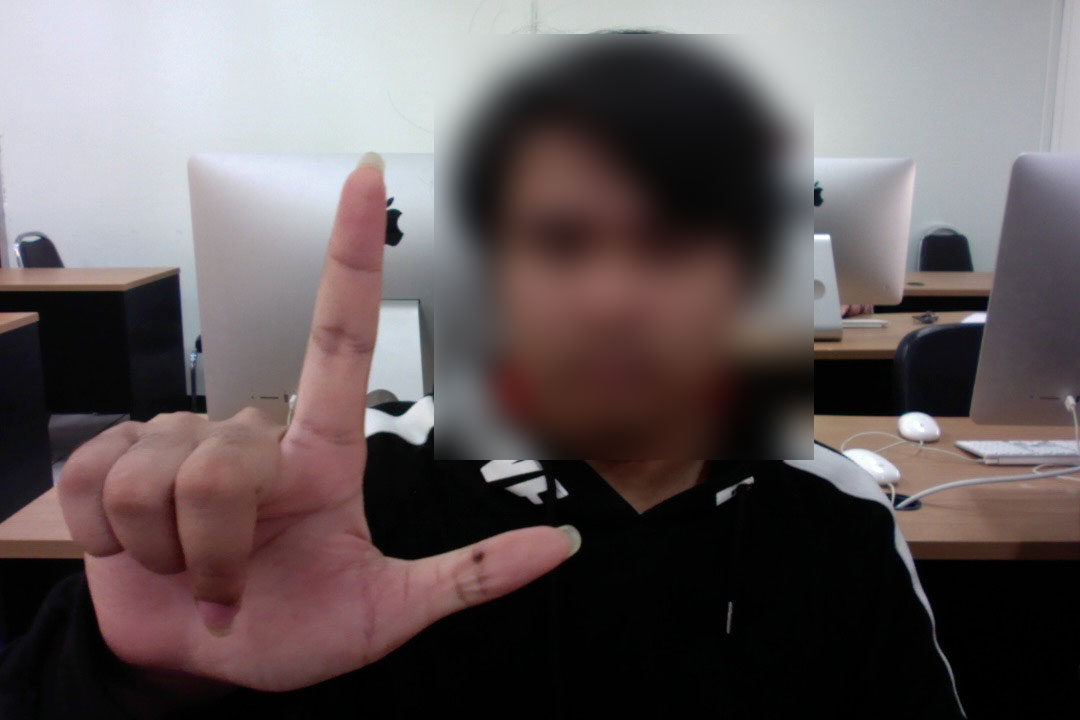lor: (40, 153, 594, 706)
